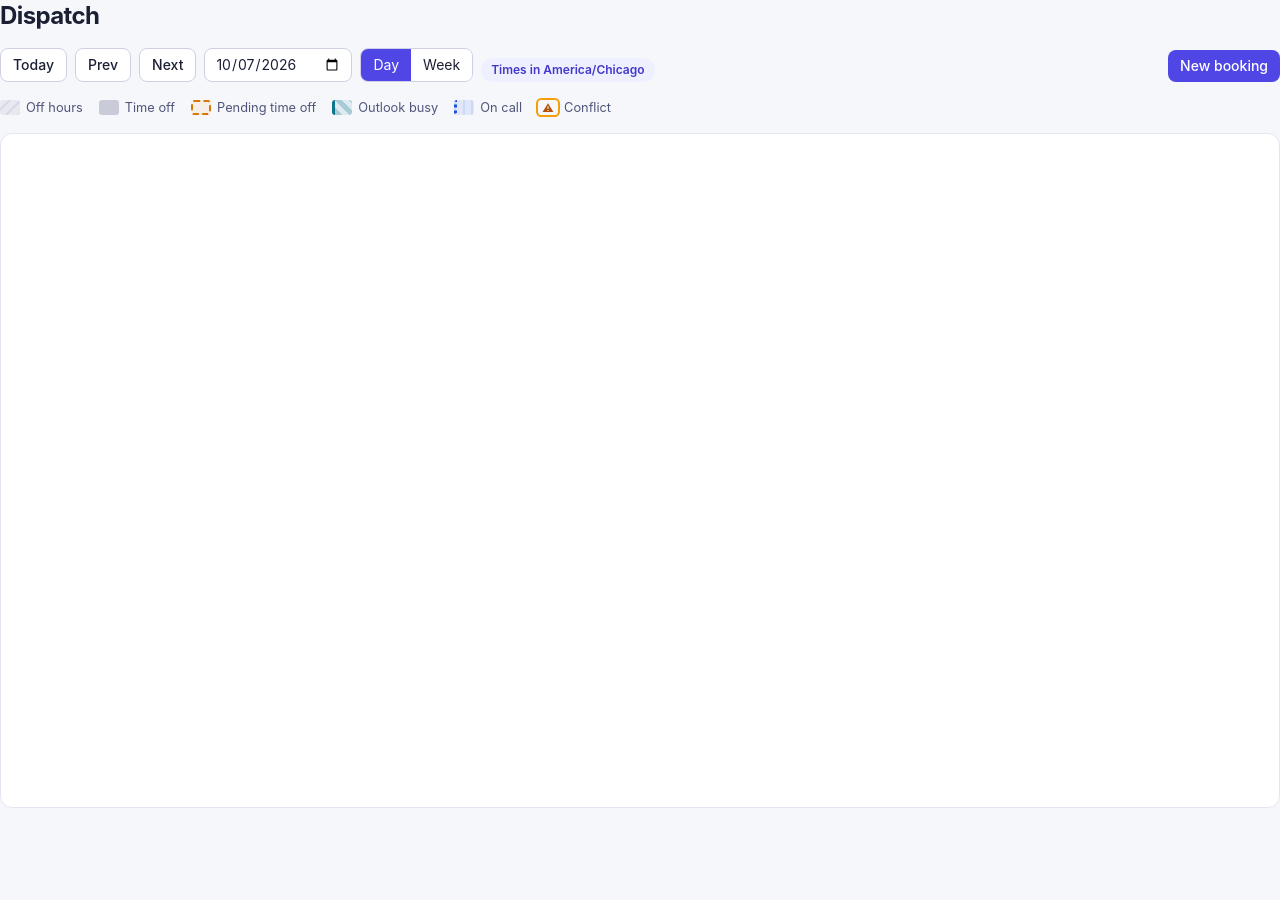
it: dispatch board › closes the booking dialog with Escape
Click the button "New booking": (1224, 66) [1168,50,1279,82]
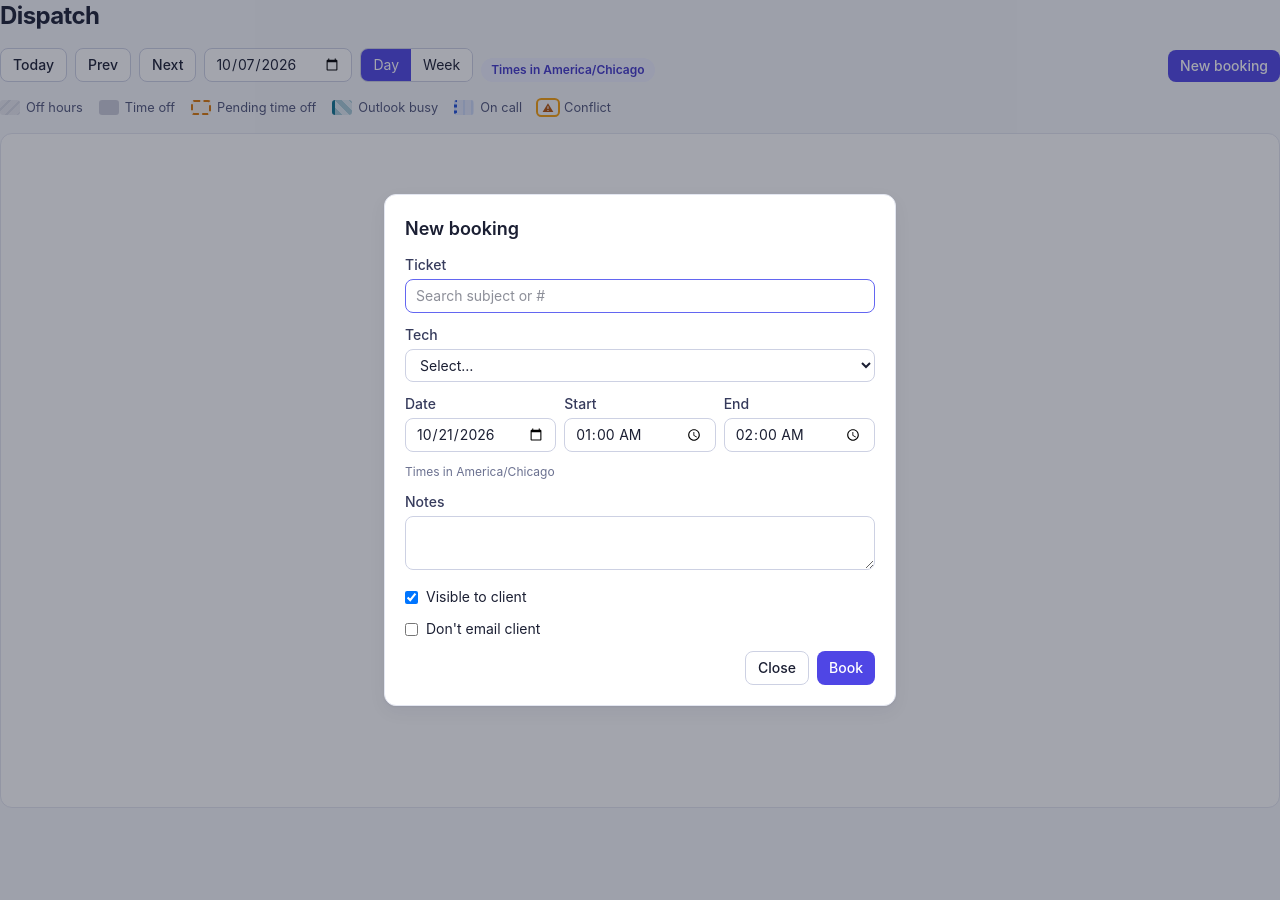
Press Escape in the dialog, box [384,194,896,706]
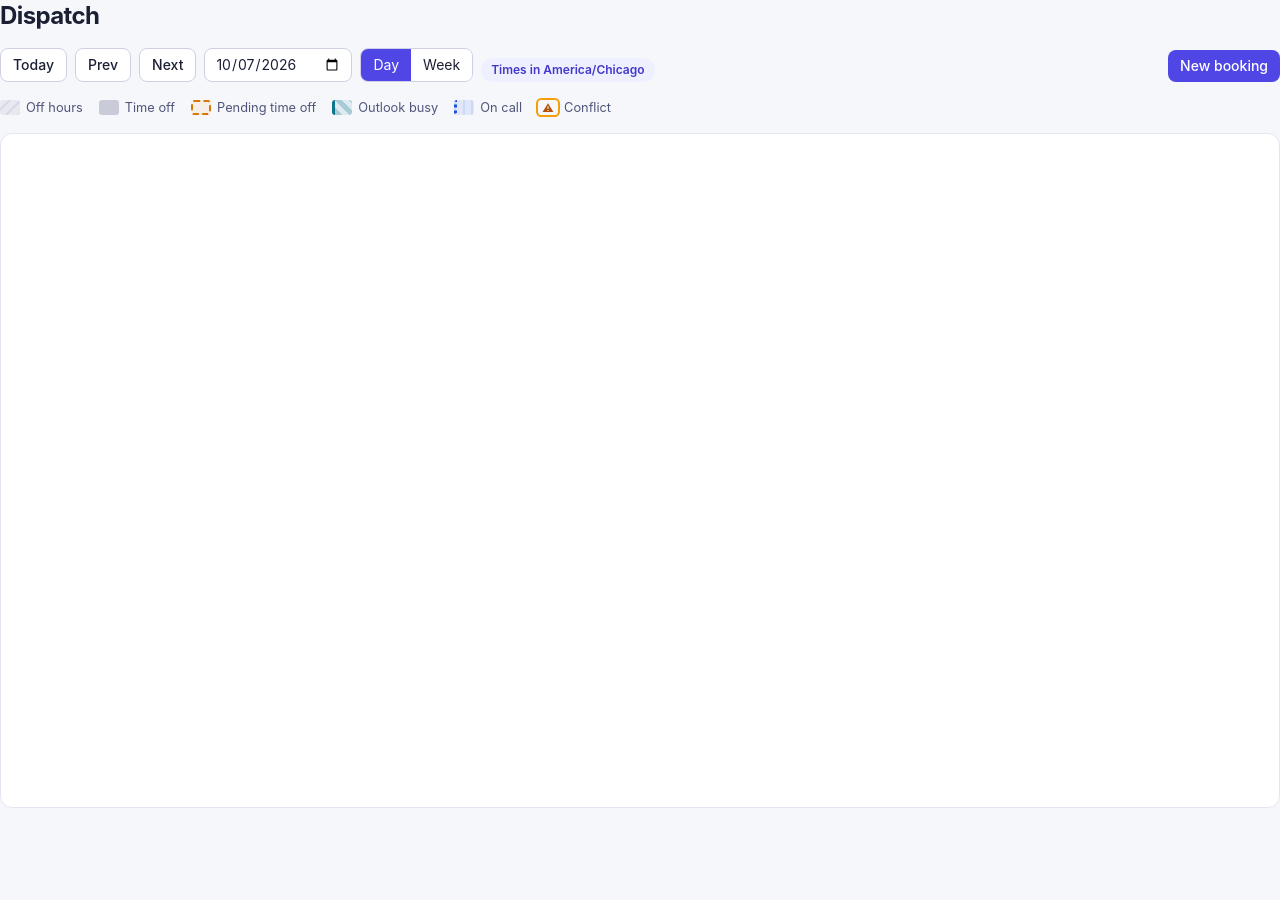
Result: the dialog is gone
